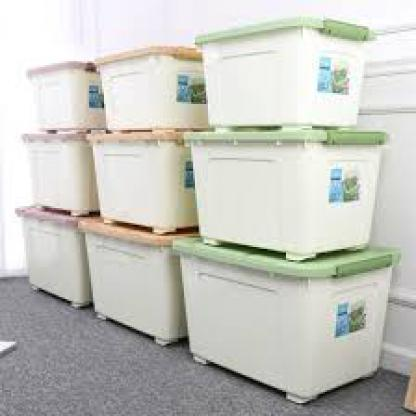plastic_box: (171, 227, 407, 403), (184, 10, 379, 124), (19, 124, 102, 223)
